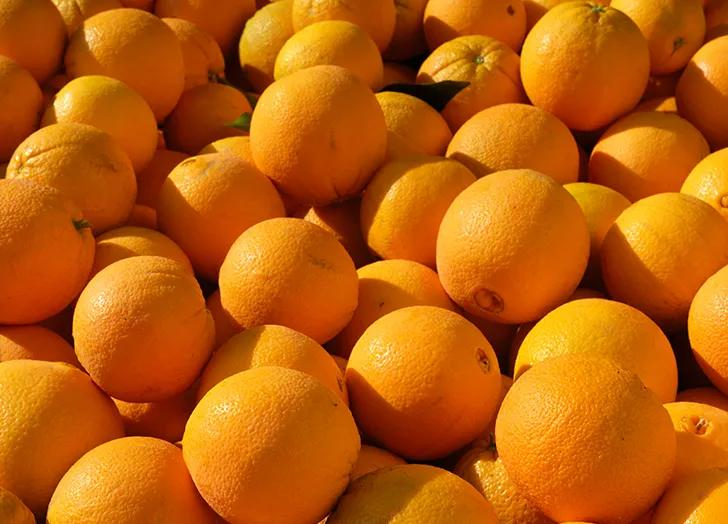orange: (509, 349, 680, 516), (184, 375, 359, 524), (344, 307, 500, 462), (434, 162, 580, 318), (252, 66, 392, 207), (592, 186, 721, 330), (83, 259, 200, 405), (225, 222, 362, 337), (605, 193, 725, 324), (525, 5, 644, 129), (2, 360, 104, 492), (137, 150, 263, 244), (82, 12, 199, 102), (23, 133, 147, 204)
